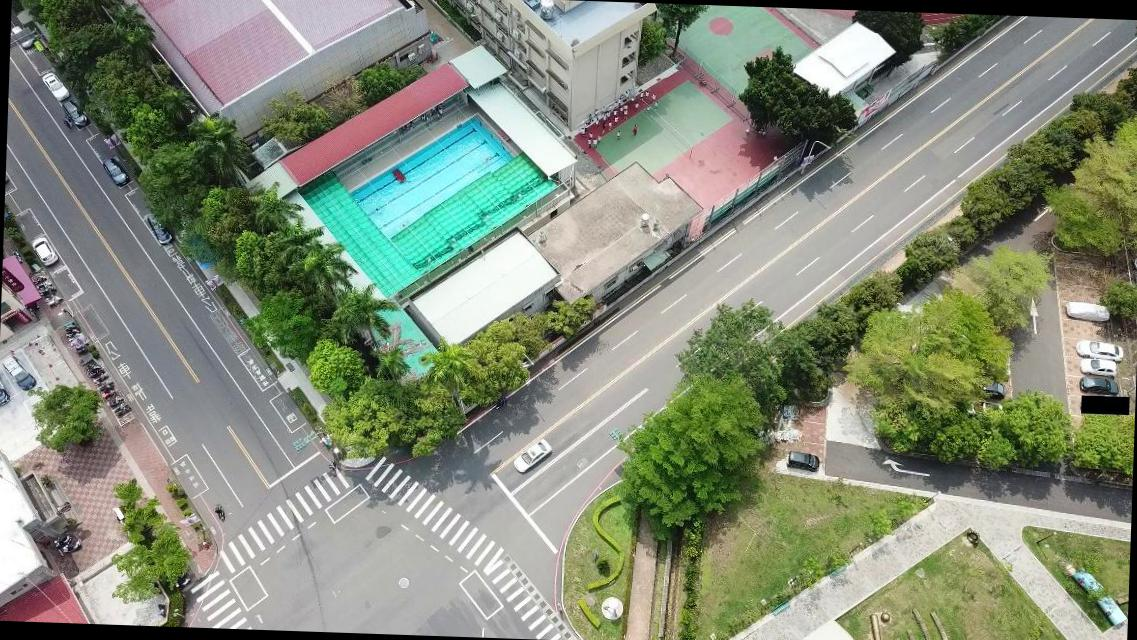vehicle: (512, 436, 551, 474), (2, 352, 36, 393), (1075, 338, 1124, 359), (144, 212, 174, 244), (100, 156, 130, 186), (30, 235, 58, 265), (784, 449, 820, 472), (60, 100, 88, 129), (42, 70, 68, 100), (1077, 358, 1117, 377), (1078, 376, 1118, 393), (975, 380, 1006, 398), (11, 26, 33, 50), (0, 374, 10, 409)
